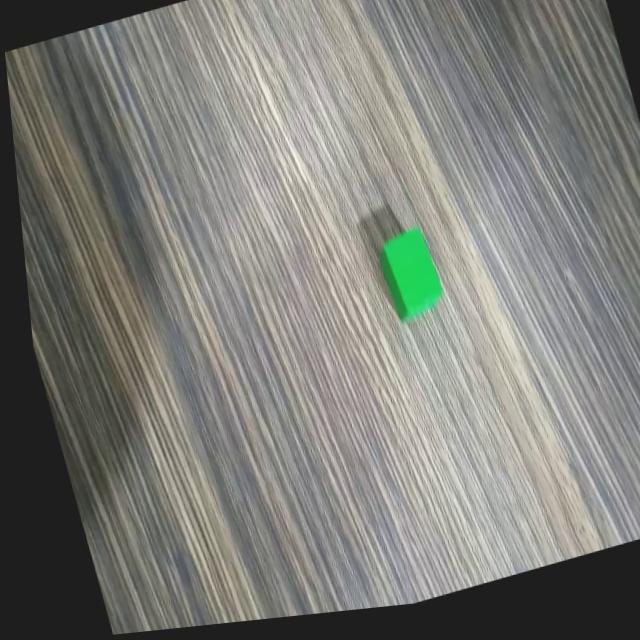cube: (364, 225, 446, 337)
